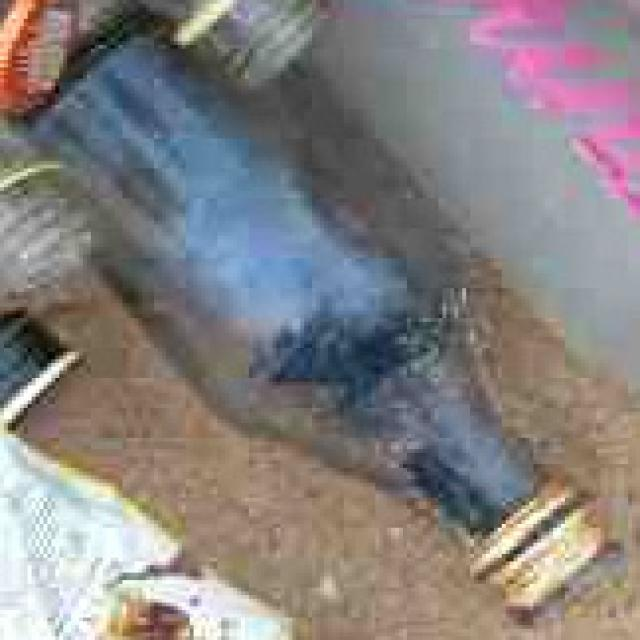kim_loai: (474, 483, 608, 616), (0, 318, 83, 429), (178, 0, 235, 47)
thuy_tinh: (51, 37, 533, 531), (326, 2, 640, 380)
